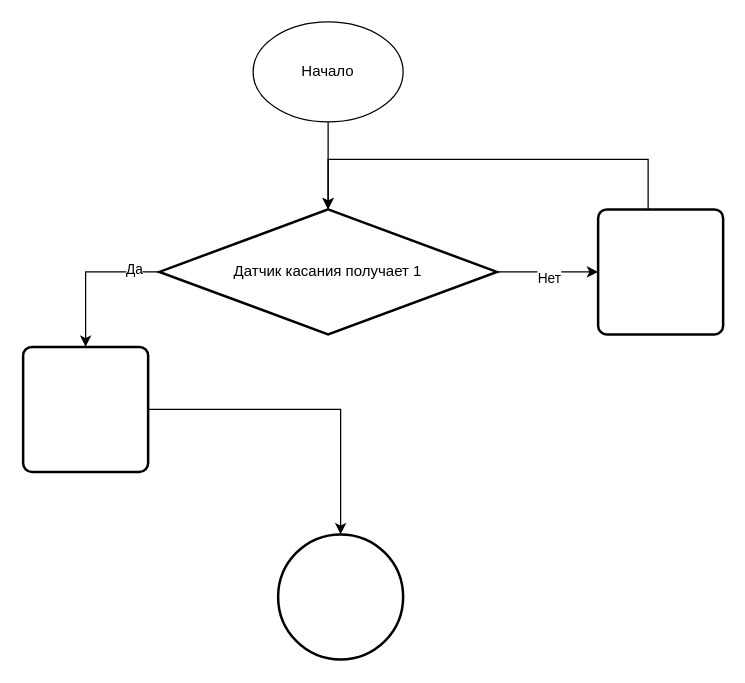
Image size: 745x683. Some labels were removed from this diagram. The box of each missing label's shape, as (x1, y1, x2, y2) in pixels:
Закрыть держатель: (21, 345, 149, 472)
Ожидание: (596, 208, 724, 335)
